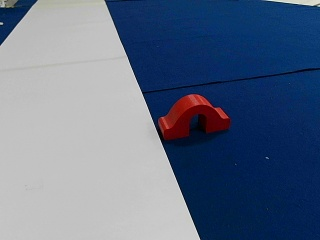bridge: (160, 95, 228, 137)
